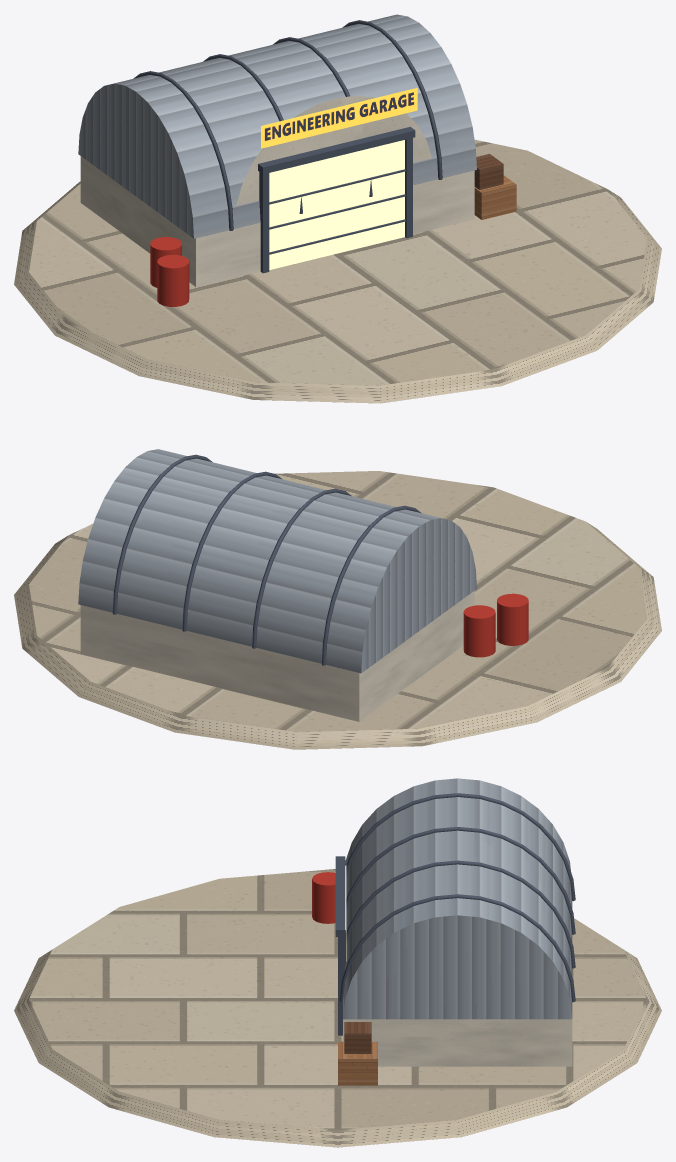
File: landmark-garage.glb
3 renders of one model, top to bottom at view 1: azimuth 30°, elevation 25°; view 2: azimuth 150°, elevation 25°; view 3: azimuth 270°, elevation 25°, orthographic.
Visible parts, largest first — view 1: landmark-garage; view 2: landmark-garage; view 3: landmark-garage.
Boxes of the visible parts, <box> form: landmark-garage: <box>14,14,661,403</box>; landmark-garage: <box>14,449,661,749</box>; landmark-garage: <box>14,778,661,1147</box>.
Bounding box in the file's own units: 13 × 3.69 × 13.
9 materials, 6 textured.
